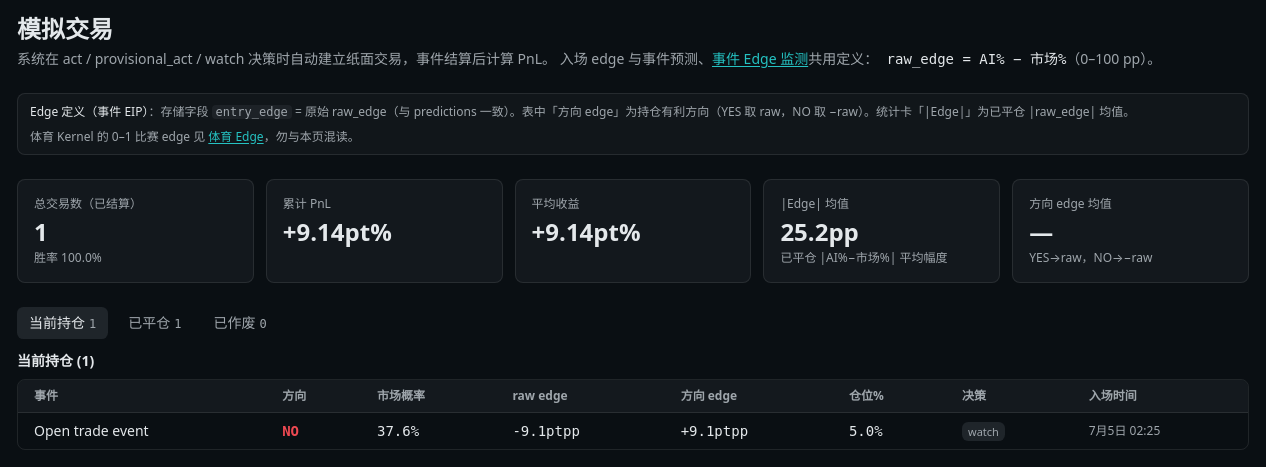
Test case: TradesPage › switches between current holdings and closed trades instead of rendering both
Expected: the link "Open trade event" is shown, [34, 421, 149, 440]
Expected: the text "Closed trade event" is not shown
What coordinates should you click on to do the following:
click the button "已平仓1"
I would click on:
 (155, 323)
Its box is [116, 307, 193, 339].
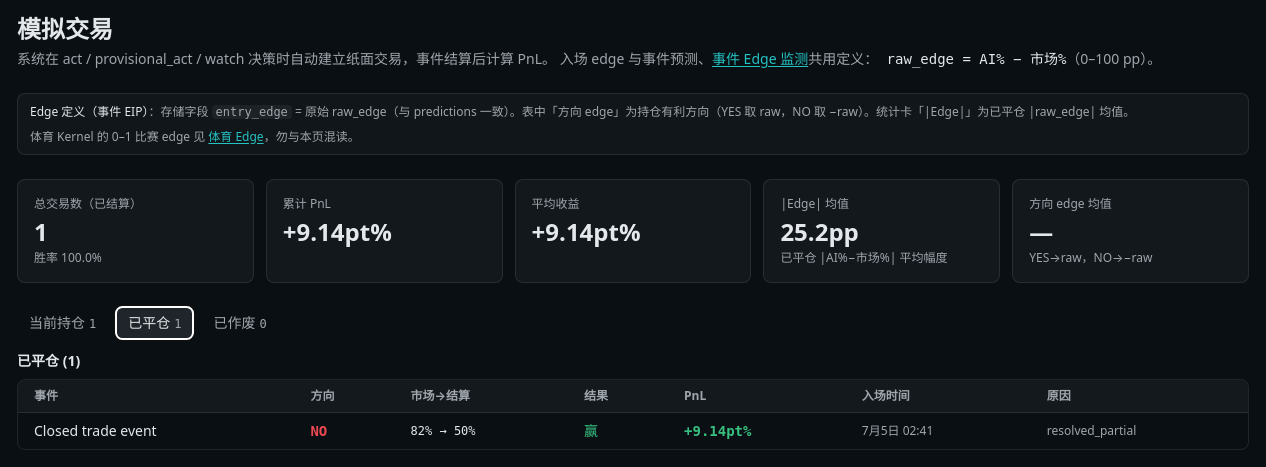
Expected: the link "Closed trade event" is shown, [34, 421, 157, 440]
Expected: the link "Open trade event" is gone
What coordinates should you click on to do the following:
click the button "当前持仓1"
I would click on:
 (63, 323)
Its box is [17, 307, 108, 339].
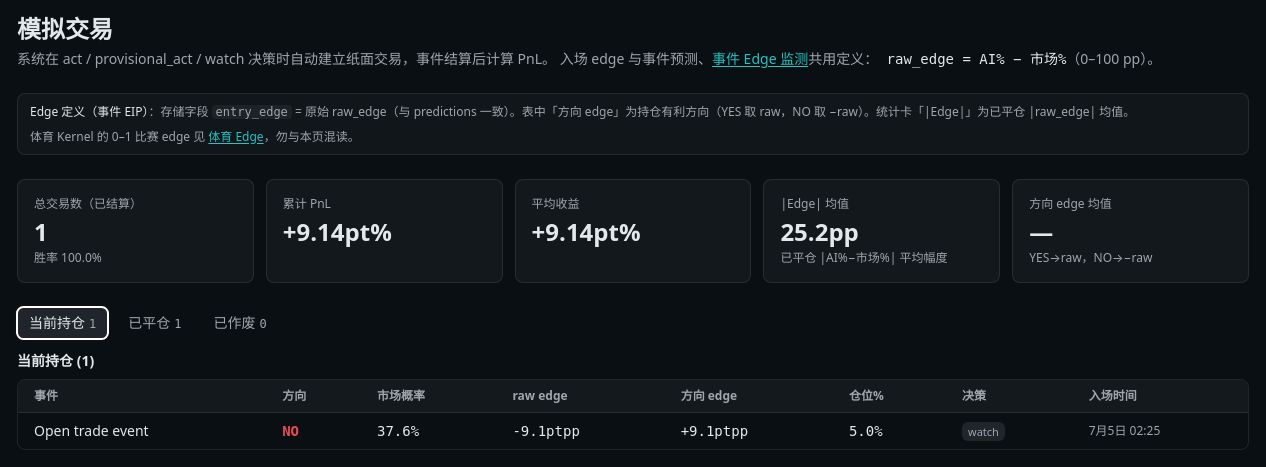
Expected: the link "Open trade event" is shown, [34, 421, 149, 440]
Expected: the link "Closed trade event" is gone
